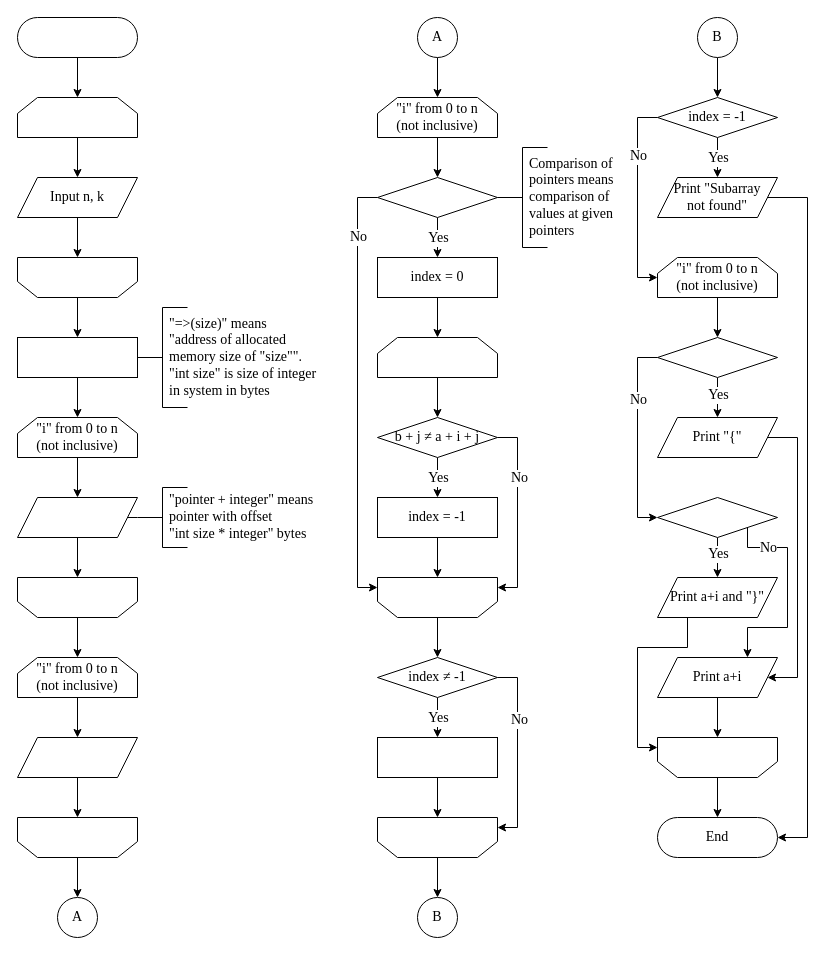
Some shapes in this 833 by 955 pixel diagram are drawn without their labels. Each missing label, with the centre of its shape:
"j" from 0 to k (not inclusive): point 437,357
a = =>(int size * n) b = =>(int size * k): point 77,357
b = a + i: point 437,197
Begin: point 77,37
i = index: point 717,357
i = index + k - 1: point 717,517
index = i: point 437,757
Input value to a + i: point 77,517
Input value to b + i: point 77,757
Loop while n < k: point 77,277
